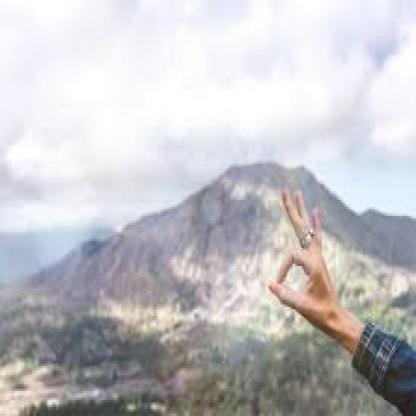ok: (266, 181, 340, 335)
